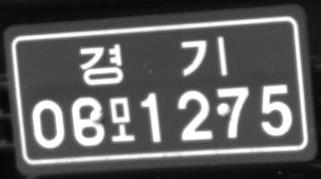0: (31, 98, 65, 150)
1: (139, 91, 165, 144)
2: (177, 89, 214, 142)
5: (260, 83, 293, 137)
6: (71, 96, 105, 147)
7: (216, 84, 250, 139)
경기_D: (78, 35, 231, 87)
모: (108, 94, 136, 143)
